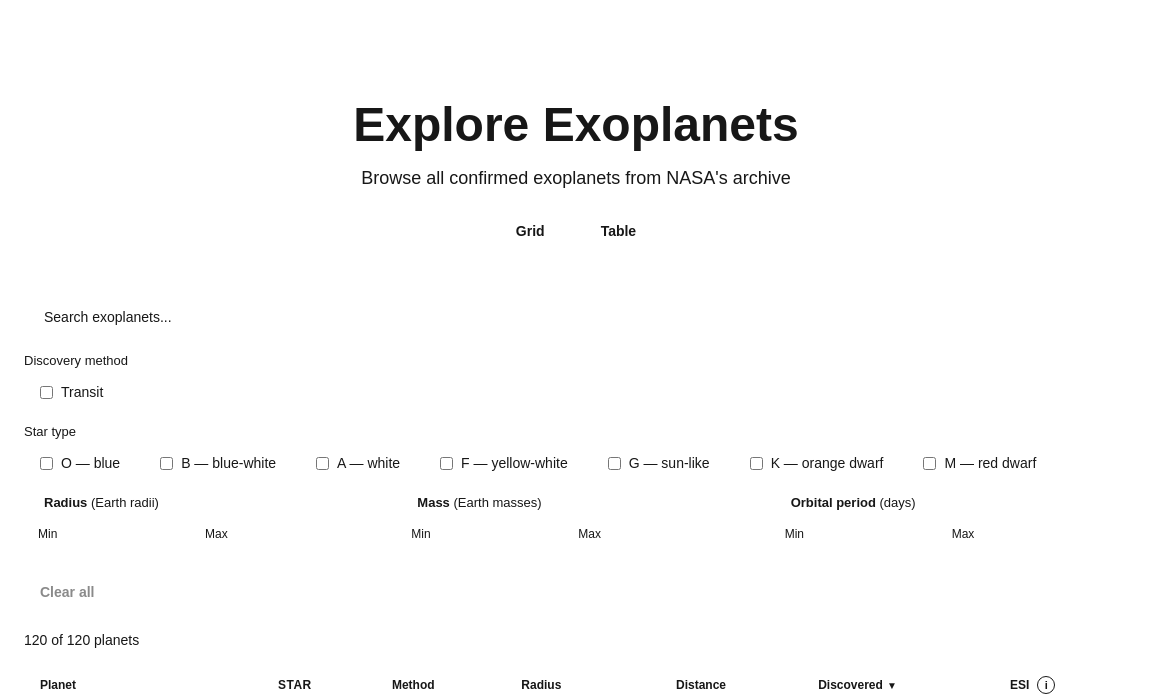
Test case: ExploreClient pagination › drops the grid paging while nothing matches and returns to page 1 after clearing
Click the button "Grid" at [530, 231], box [492,213,569,249]
(page scrolled)
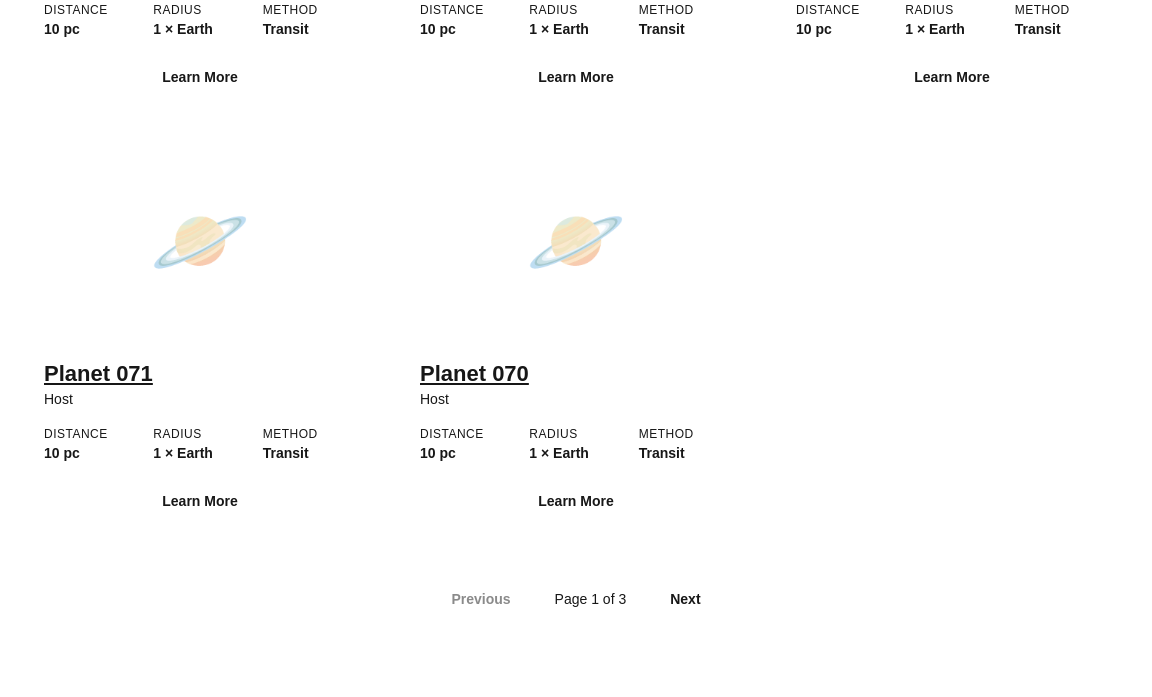
Click the button "Next" at [685, 599], box [650,581,721,617]
(page scrolled)
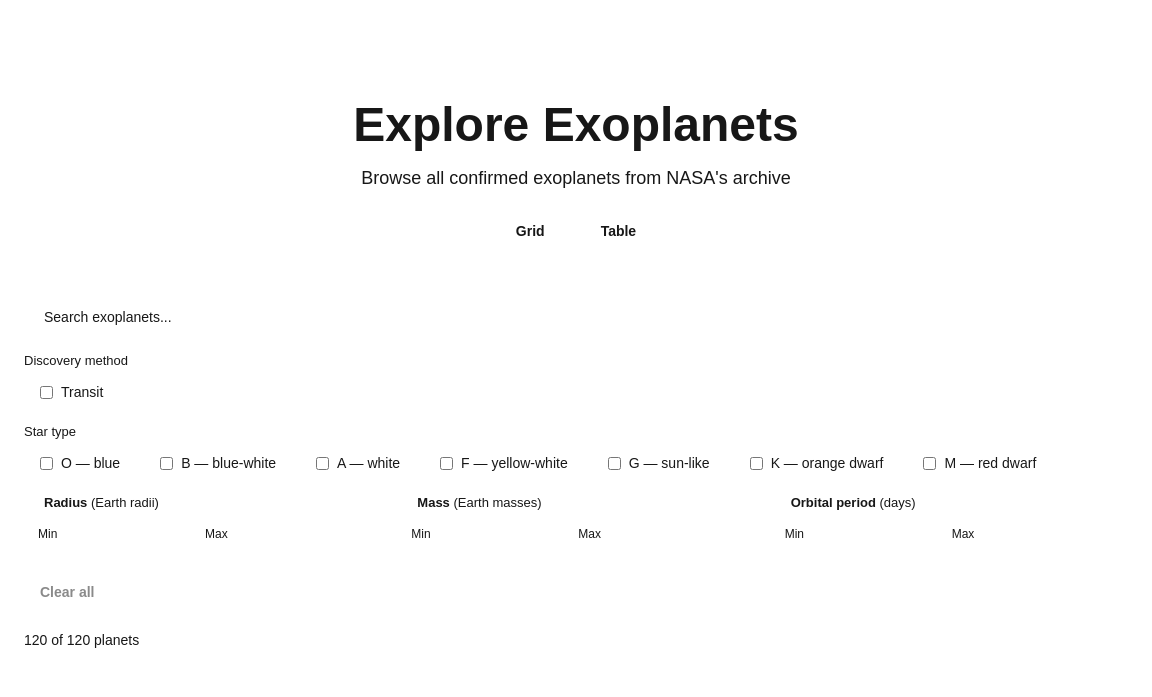
Type "no such planet" into the field named "search by planet or host star" at [576, 317], box [24,297,1128,337]
(page scrolled)
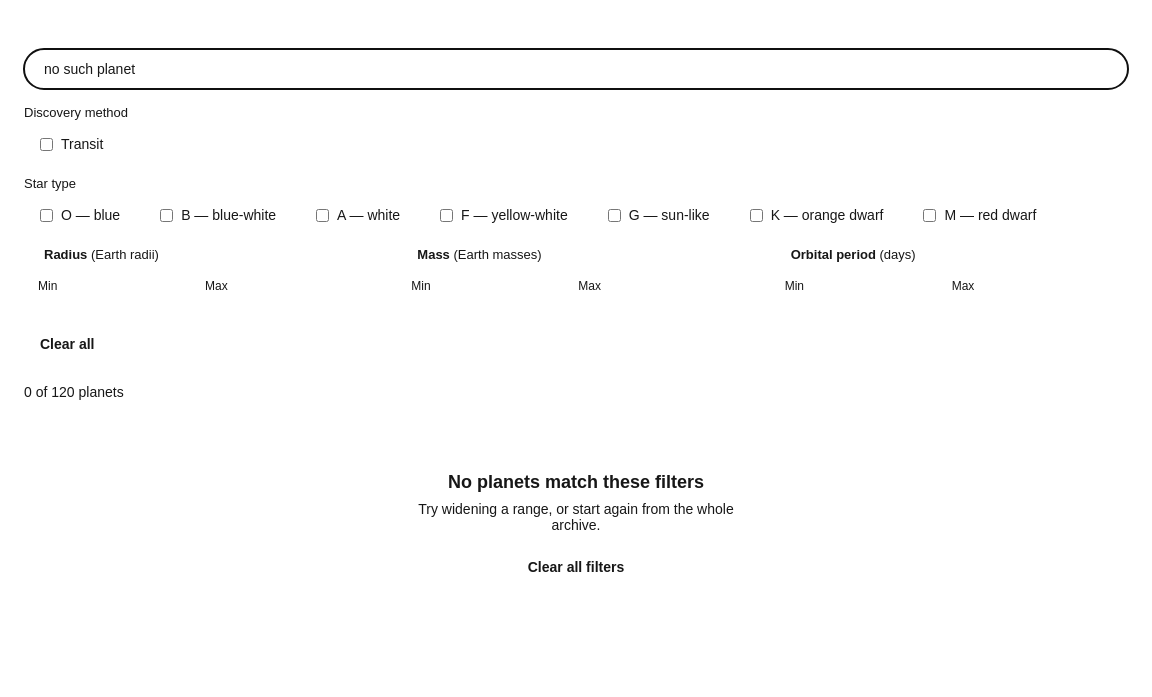
Check: the text "No planets match these filters" is shown, box [448,472,704,493]
Click the button "Clear all filters" at [576, 567], box [508,549,644,585]
(page scrolled)
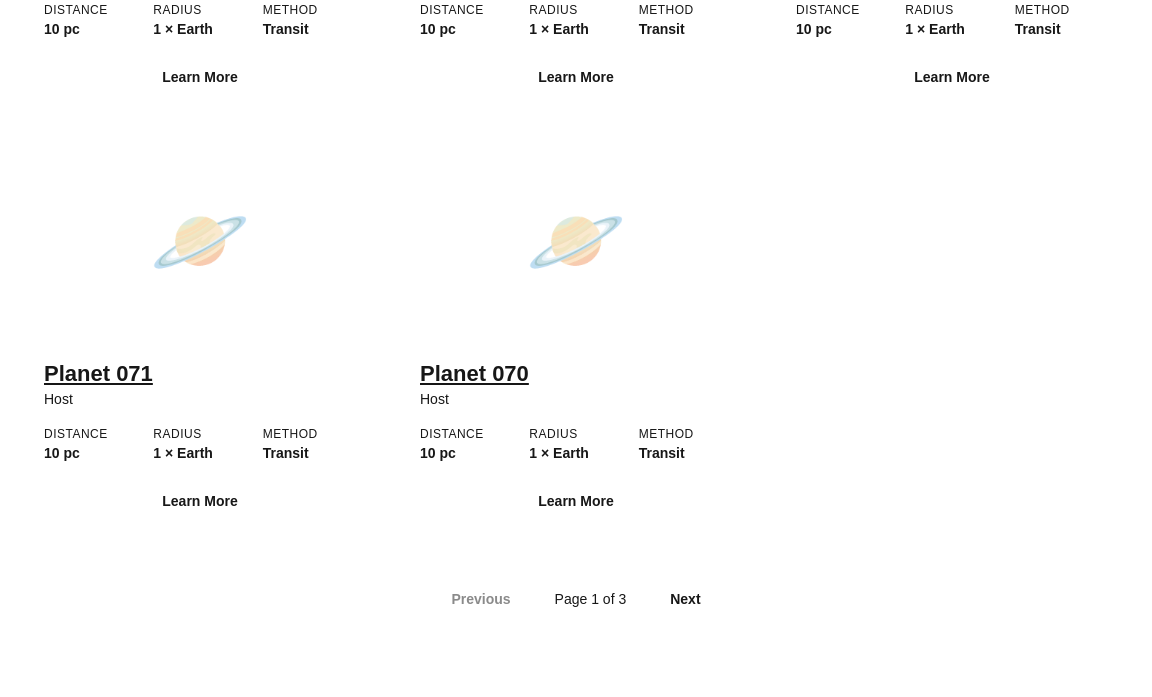
Check: the text "Page 1 of 3" is shown, box [555,591,626,607]
